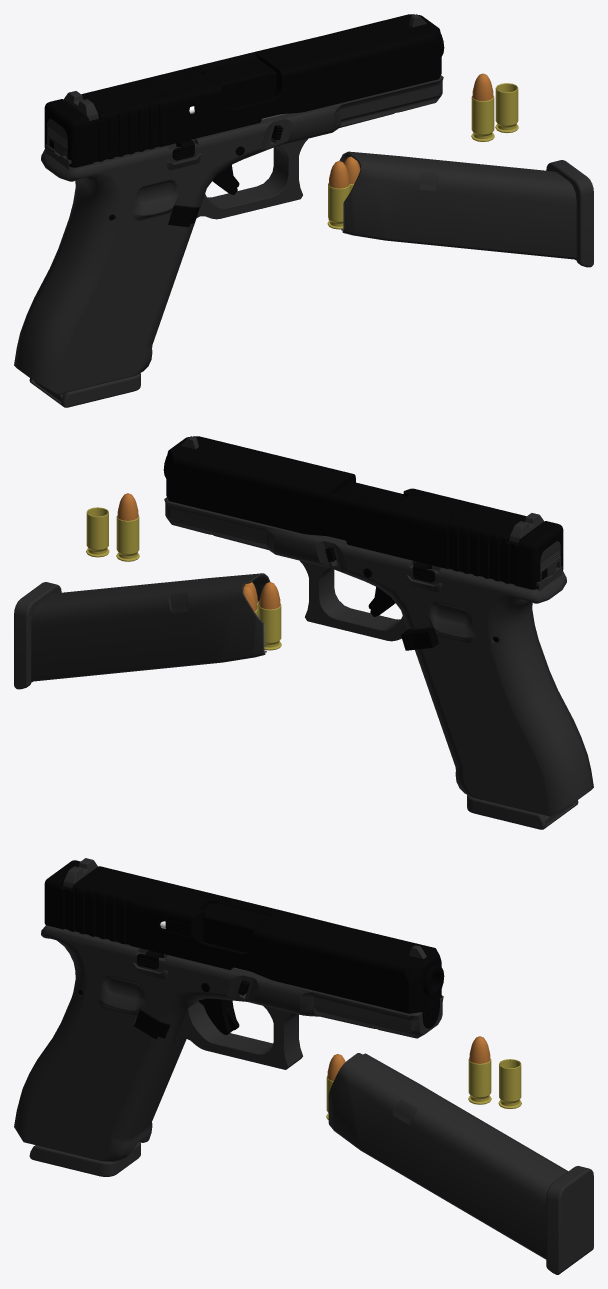
The model's file is pistolg.glb.
3 views of the same model, one above another, from view 1: azimuth 30°, elevation 25°; view 2: azimuth 150°, elevation 25°; view 3: azimuth 330°, elevation 25° (orthographic).
Visible parts, largest first — view 1: glock 17 gen5 frame_5, 919 glock 17rnd mag _7, glock 17 gen5 mos slide_8, glock 17 gen5 mos slide cover_9, glock 17 gen5 barrel_2, 919 glock 17rnd mag empty_10, 9x19_0, Object_7, glock 17 gen 5 trigga_3, glock 17 gen 5 mag releasse_6; view 2: glock 17 gen5 frame_5, glock 17 gen5 mos slide_8, 919 glock 17rnd mag _7, glock 17 gen5 mos slide cover_9, 919 glock 17rnd mag empty_10, 9x19_0, Object_7, glock 17 gen5 barrel_2, glock 17 gen 5 mag releasse_6, glock 17 gen 5 trigga_3; view 3: glock 17 gen5 frame_5, 919 glock 17rnd mag _7, glock 17 gen5 mos slide_8, glock 17 gen5 mos slide cover_9, glock 17 gen5 barrel_2, 919 glock 17rnd mag empty_10, 9x19_0, Object_7, glock 17 gen 5 trigga_3, glock 17 gen 5 mag releasse_6.
Part boxes in pixels (x1=…): glock 17 gen5 frame_5: x1=14, y1=75, x2=443, y2=394; 919 glock 17rnd mag _7: x1=327, y1=151, x2=593, y2=267; glock 17 gen5 mos slide_8: x1=44, y1=14, x2=441, y2=167; glock 17 gen5 mos slide cover_9: x1=81, y1=71, x2=204, y2=121; glock 17 gen5 barrel_2: x1=202, y1=34, x2=444, y2=108; 919 glock 17rnd mag empty_10: x1=29, y1=138, x2=194, y2=407; 9x19_0: x1=471, y1=73, x2=494, y2=141; Object_7: x1=495, y1=83, x2=518, y2=133; glock 17 gen 5 trigga_3: x1=212, y1=146, x2=244, y2=194; glock 17 gen 5 mag releasse_6: x1=168, y1=205, x2=199, y2=226; glock 17 gen5 frame_5: x1=164, y1=497, x2=593, y2=816; glock 17 gen5 mos slide_8: x1=166, y1=436, x2=563, y2=589; 919 glock 17rnd mag _7: x1=14, y1=573, x2=281, y2=689; glock 17 gen5 mos slide cover_9: x1=403, y1=493, x2=526, y2=543; 919 glock 17rnd mag empty_10: x1=413, y1=560, x2=578, y2=829; 9x19_0: x1=116, y1=493, x2=139, y2=561; Object_7: x1=86, y1=507, x2=109, y2=557; glock 17 gen5 barrel_2: x1=163, y1=456, x2=405, y2=505; glock 17 gen 5 mag releasse_6: x1=401, y1=627, x2=438, y2=650; glock 17 gen 5 trigga_3: x1=363, y1=568, x2=395, y2=616; glock 17 gen5 frame_5: x1=14, y1=925, x2=443, y2=1161; 919 glock 17rnd mag _7: x1=326, y1=1053, x2=593, y2=1274; glock 17 gen5 mos slide_8: x1=44, y1=858, x2=441, y2=1028; glock 17 gen5 mos slide cover_9: x1=77, y1=867, x2=202, y2=916; glock 17 gen5 barrel_2: x1=202, y1=903, x2=444, y2=998; 919 glock 17rnd mag empty_10: x1=29, y1=941, x2=167, y2=1176; 9x19_0: x1=468, y1=1036, x2=491, y2=1104; Object_7: x1=498, y1=1059, x2=521, y2=1108; glock 17 gen 5 trigga_3: x1=198, y1=983, x2=239, y2=1034; glock 17 gen 5 mag releasse_6: x1=134, y1=1010, x2=169, y2=1039.
Bounding box in the file's own units: 0.2729 × 0.1366 × 0.0357.
